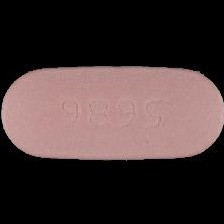53808-0909: (0, 0, 224, 224)
